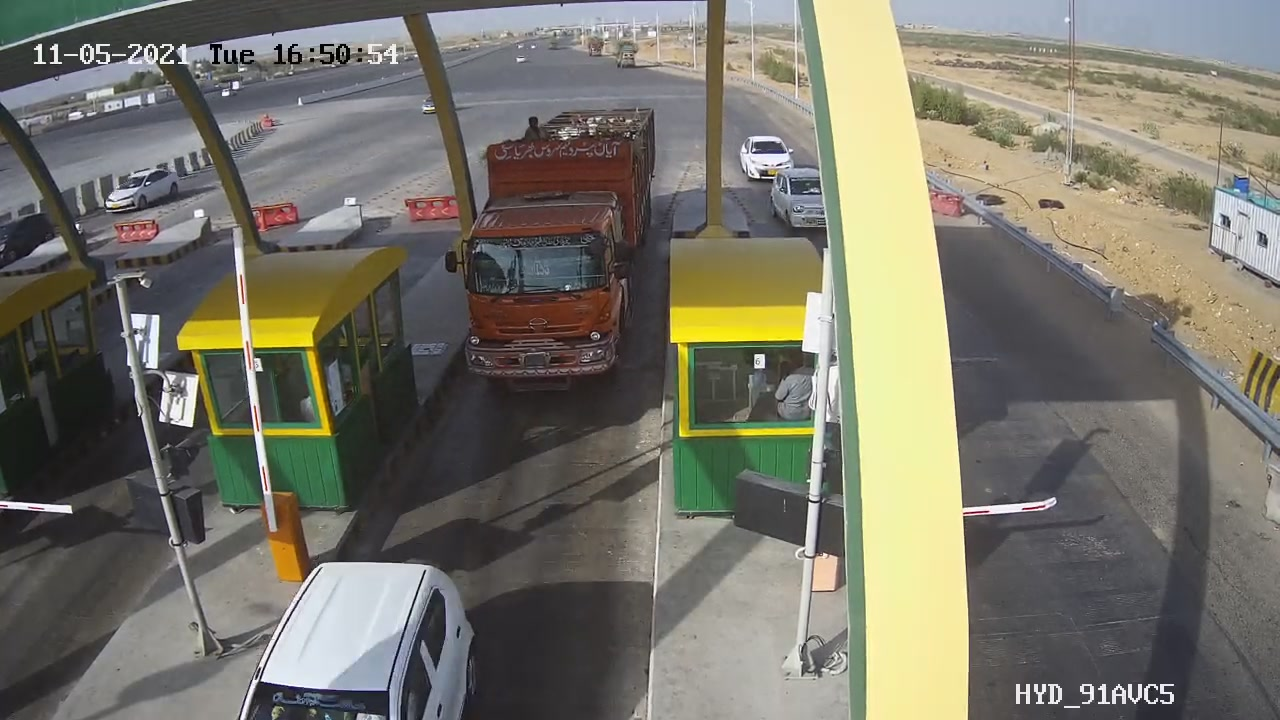F6: (433, 97, 674, 403)
